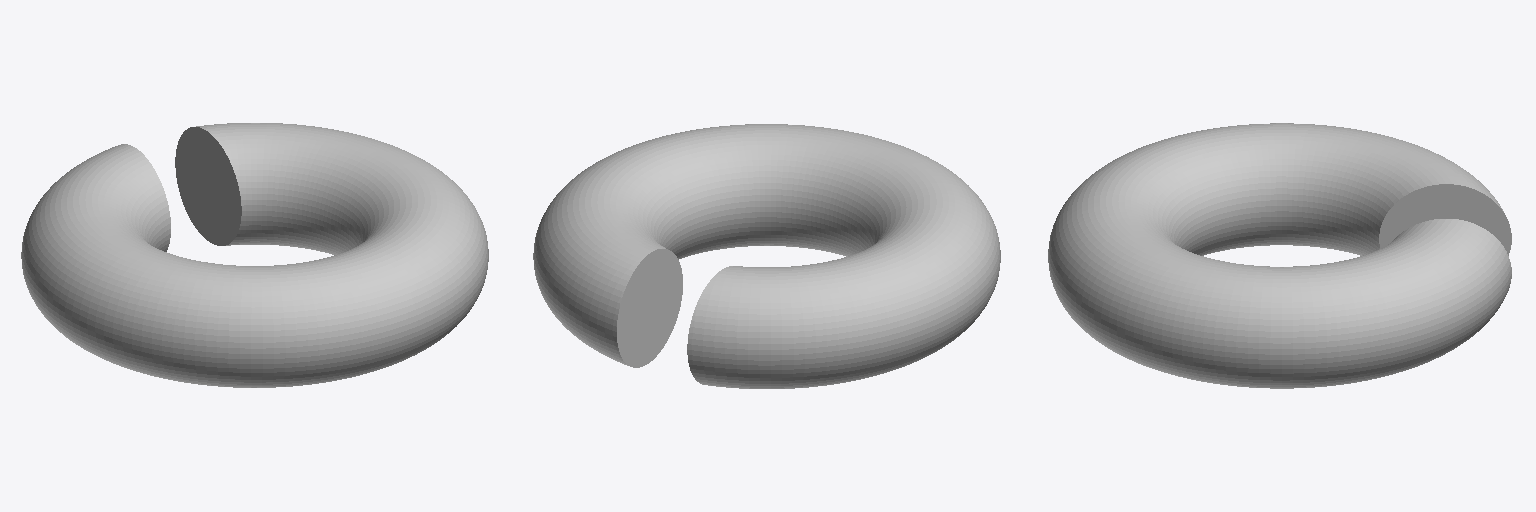
File: ring_wo_knot.obj
3 views of the same model, side by side, from view 1: azimuth 30°, elevation 25°; view 2: azimuth 150°, elevation 25°; view 3: azimuth 270°, elevation 25° (orthographic).
Size of the model in its own units: 31 by 8 by 30.76.